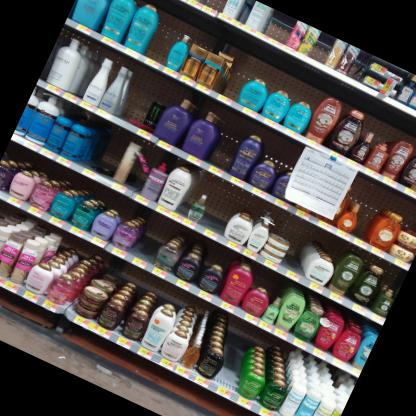empty_space: (81, 121, 133, 180), (205, 112, 252, 171), (214, 323, 255, 387), (142, 8, 186, 64), (117, 69, 161, 124), (128, 213, 172, 263), (217, 47, 258, 100), (200, 182, 240, 234), (122, 145, 160, 194), (351, 190, 383, 236), (177, 170, 207, 216), (281, 223, 311, 269), (262, 8, 297, 44), (308, 31, 335, 63), (202, 0, 231, 11)
